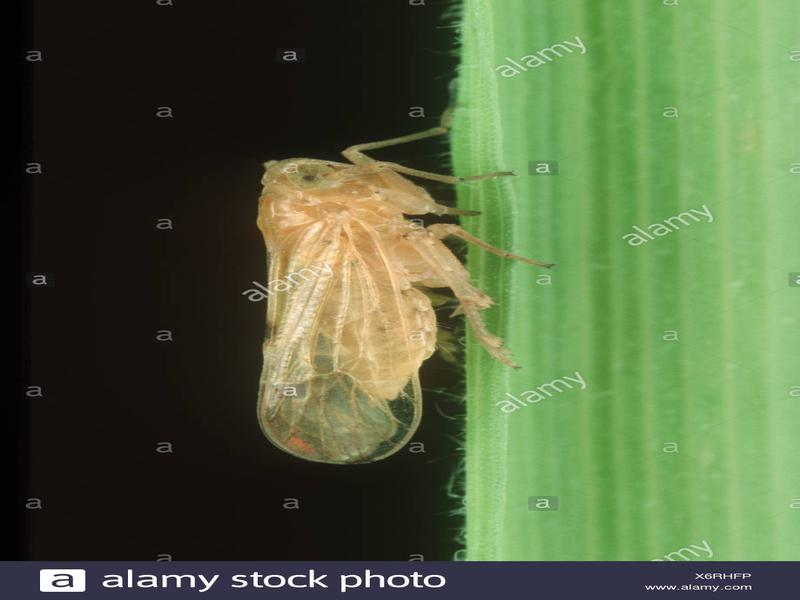Brown_plant_leafhopper: (209, 143, 477, 494)
